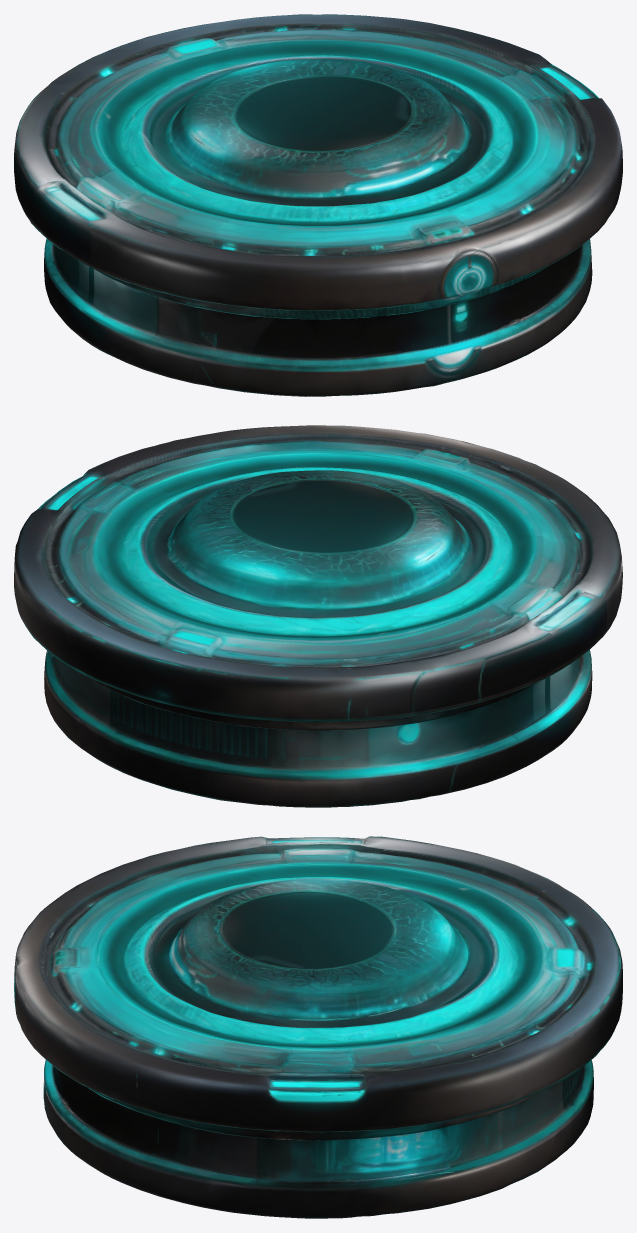
File: pod.glb
3 renders of one model, top to bottom at view 1: azimuth 30°, elevation 25°; view 2: azimuth 150°, elevation 25°; view 3: azimuth 270°, elevation 25°, orthographic.
Size of the model in its own units: 2.01 by 0.6355 by 2.01.
Materials: 1 (1 with a texture image).
